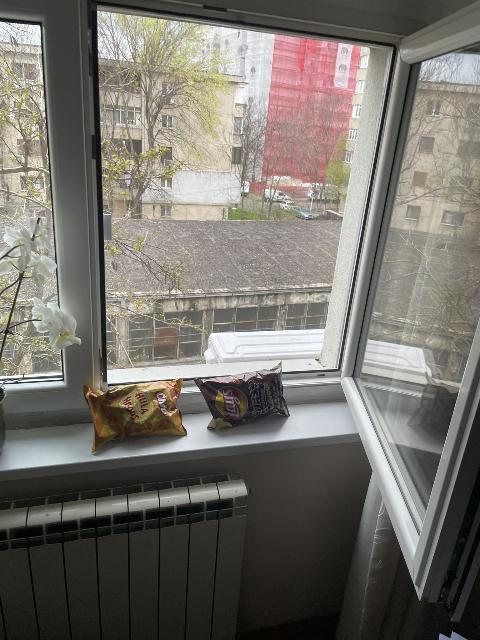Chio Hula Hoops Cheese 70g: (83, 377, 187, 451)
Lays Beef Grilled Ribs 125g: (193, 360, 290, 429)
